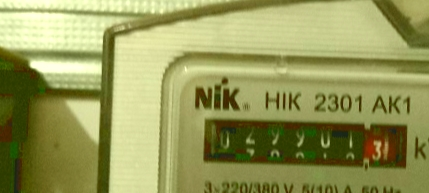0: (315, 125, 331, 150), (214, 127, 230, 150)
1: (342, 126, 355, 150)
2: (240, 123, 256, 146)
3: (367, 138, 383, 162)
9: (291, 126, 304, 149), (266, 124, 279, 146)
screen: (192, 110, 415, 179)
